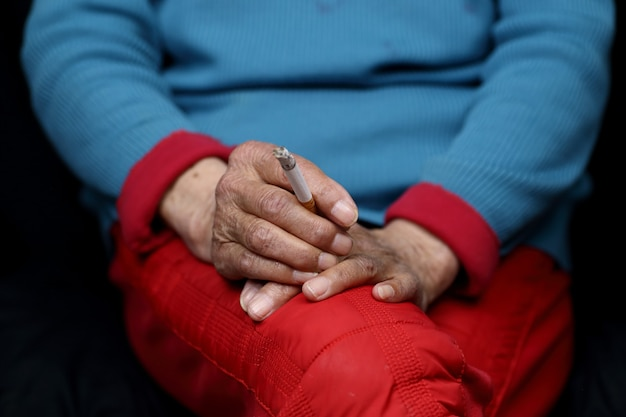cigarette: (275, 148, 323, 215)
